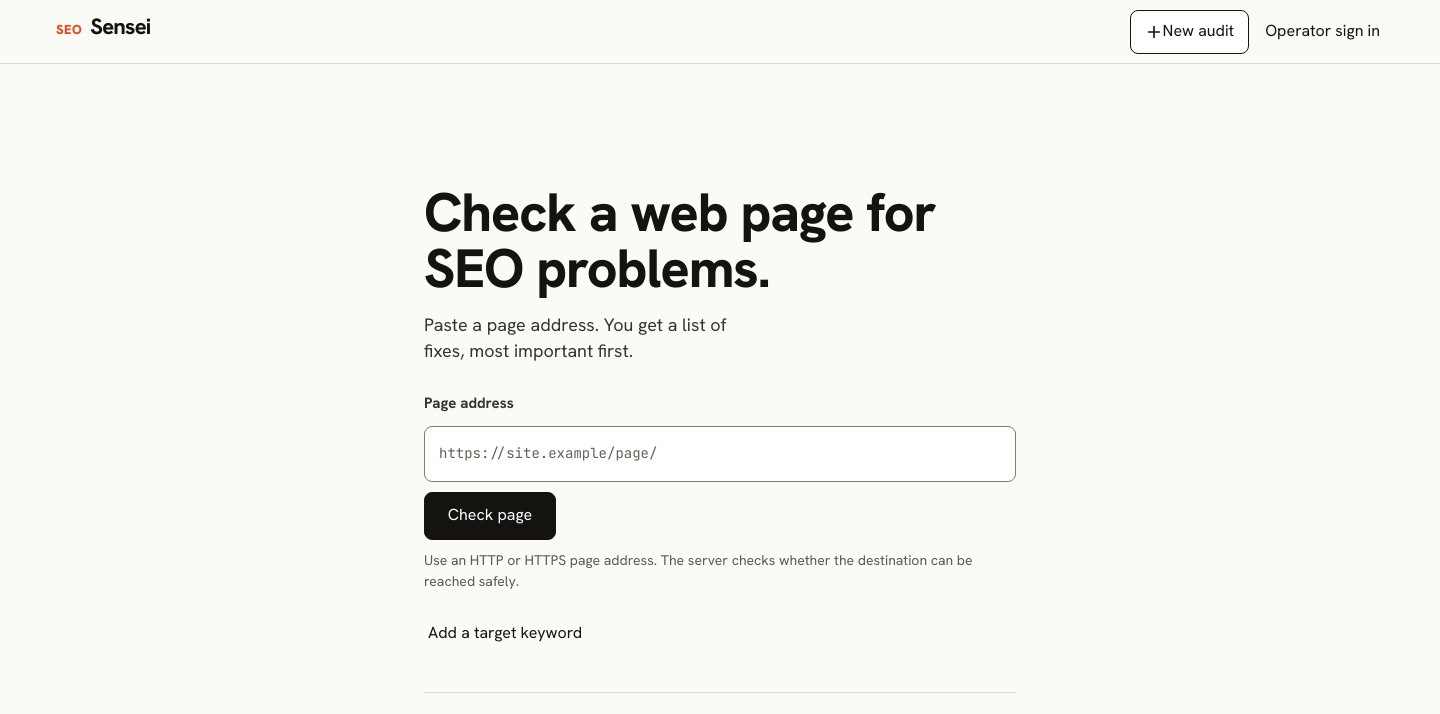
public guest audit journey › shows public URL entry without credentials and renders only the validated v1.1 response
Check: the heading "Check a web page for SEO problems." is shown, box [424,185,968,296]
Type "https://northstar.example/guides/home-solar/" into the field labelled "Page address" at (720, 454), box [424,426,1016,482]
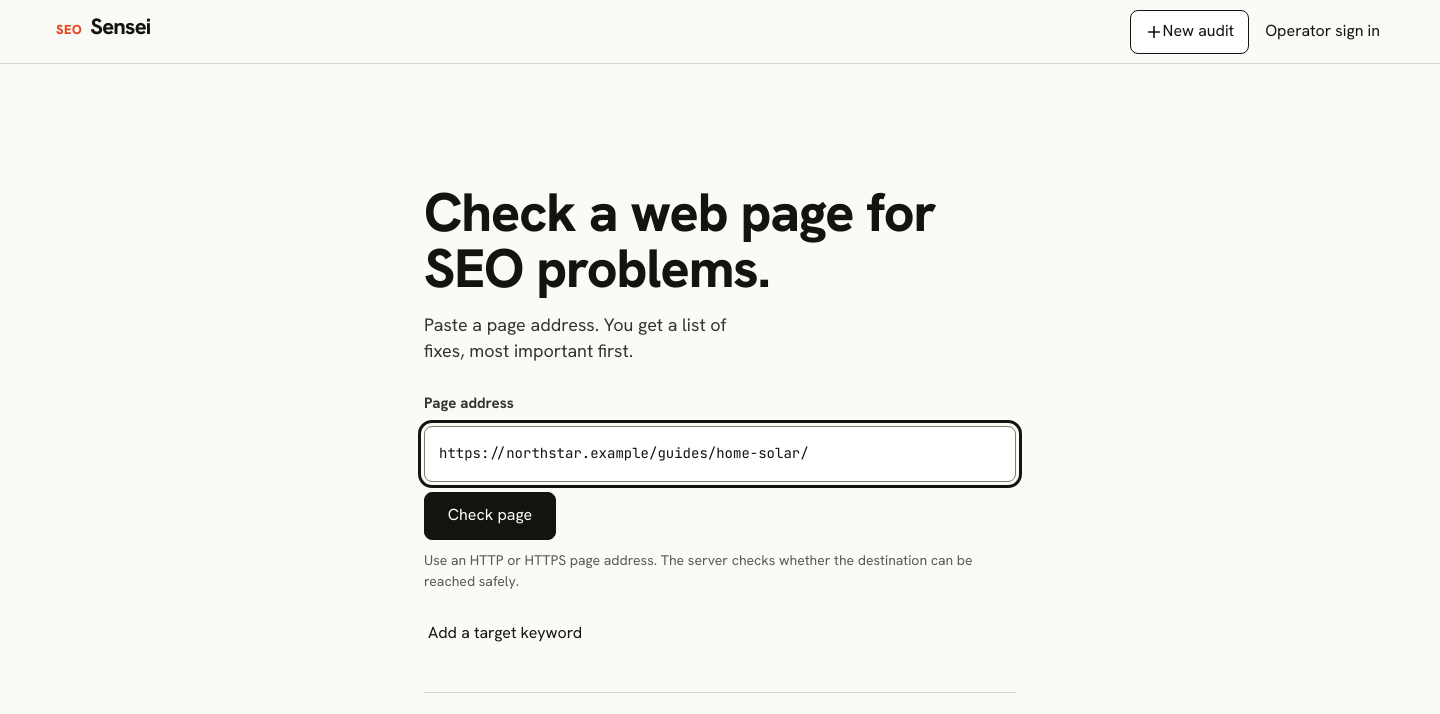
Click the button "Check page" at (490, 516), box [424,492,556,540]
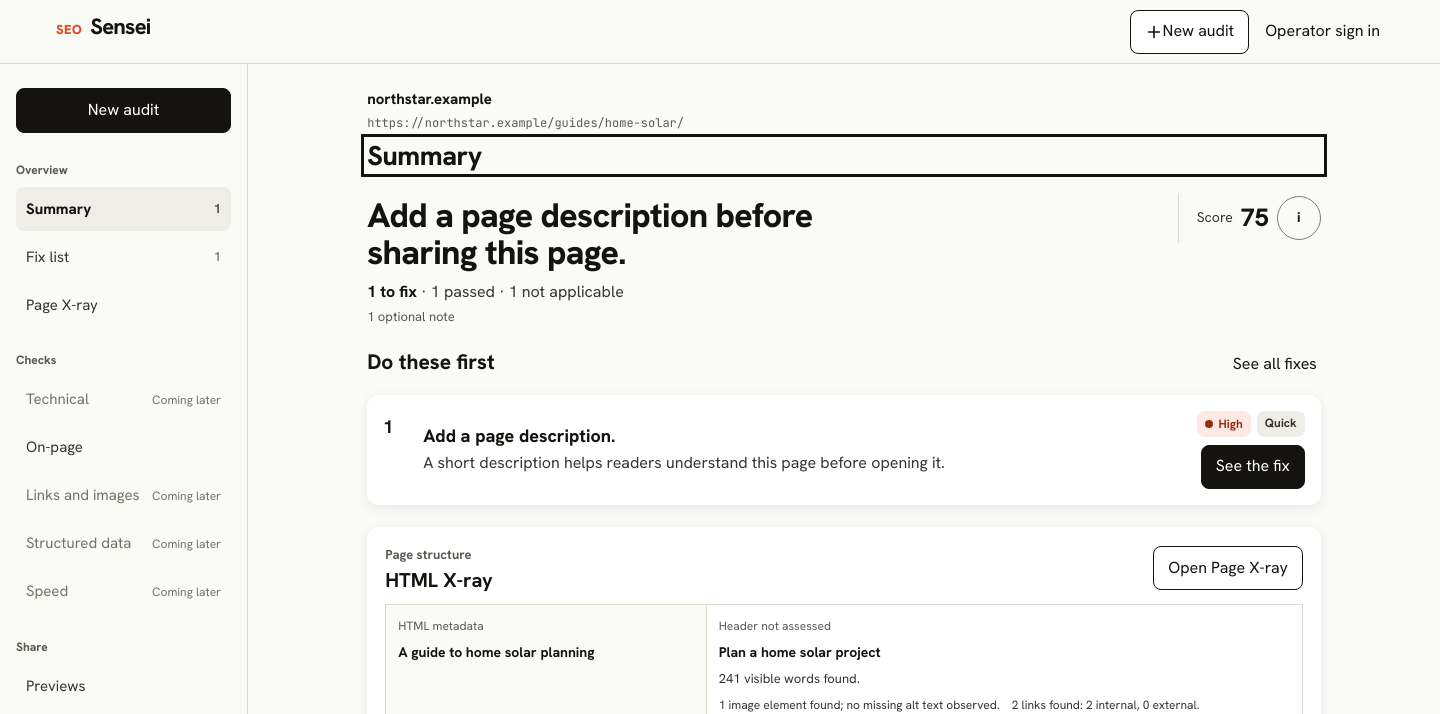
Check: the heading "Summary" is shown, box [367,138,482,173]
Check: the heading with test id "report-verdict" reads "Add a page description before sharing this page.", box [367,193,812,274]
Check: the element with test id "summary-count-line" reads "1 to fix · 1 passed · 1 not applicable", box [367,281,624,302]
Click the button "See the fix" at (1253, 467), box [1201,445,1305,489]
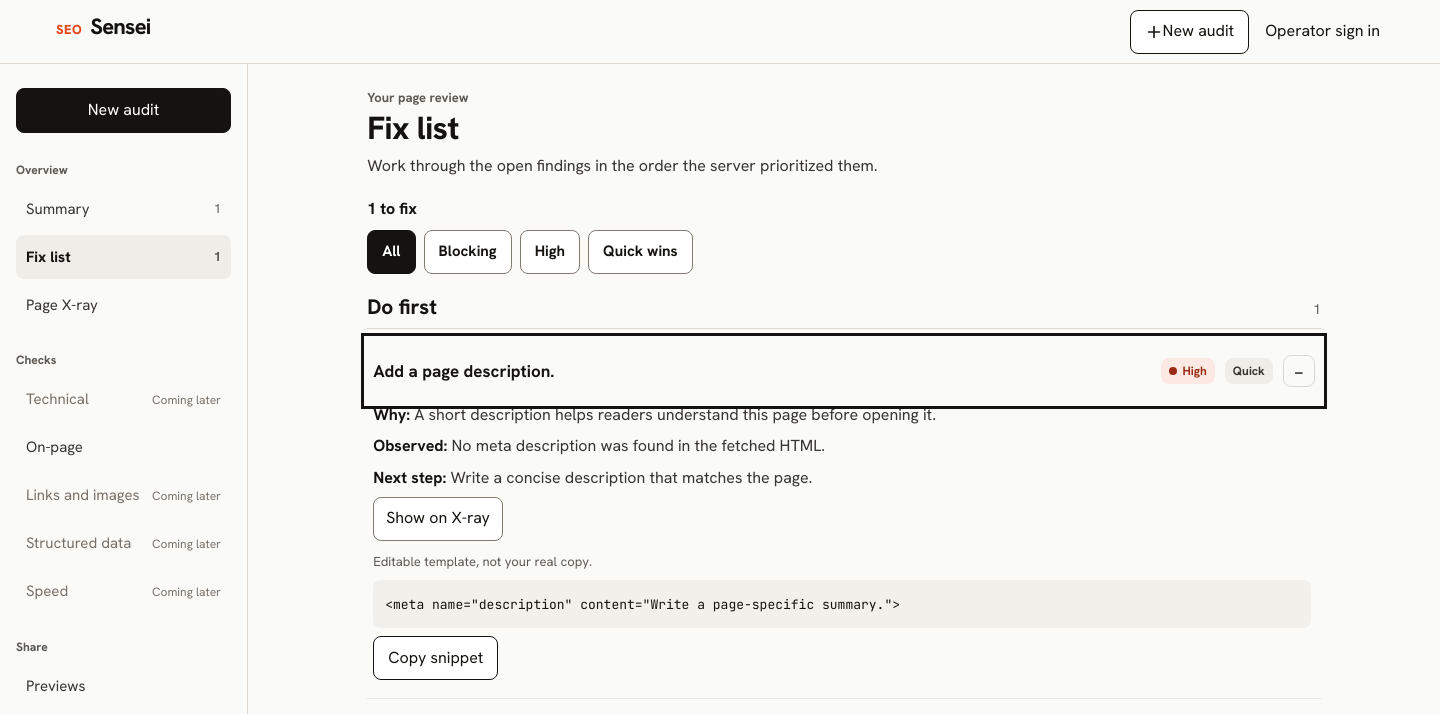
Check: the element with test id "findings-count-line" reads "1 to fix", box [367,198,417,219]
Check: the heading "Fix list" is shown, box [367,107,459,149]
Check: the text "Editable template, not your real copy." is shown, box [373,553,592,572]
